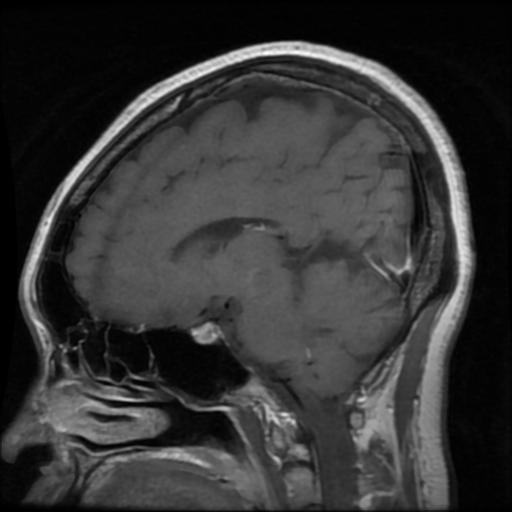Pituirity_tumour: (192, 320, 220, 343)
